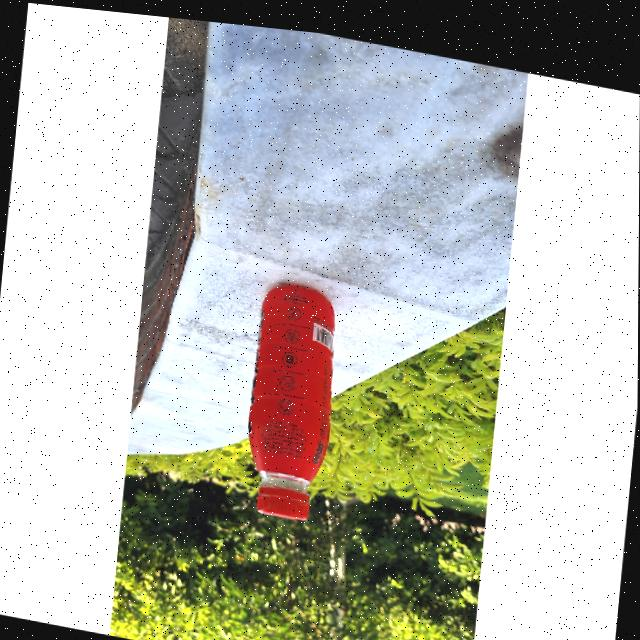Prime - Shitass: (242, 273, 338, 523)
